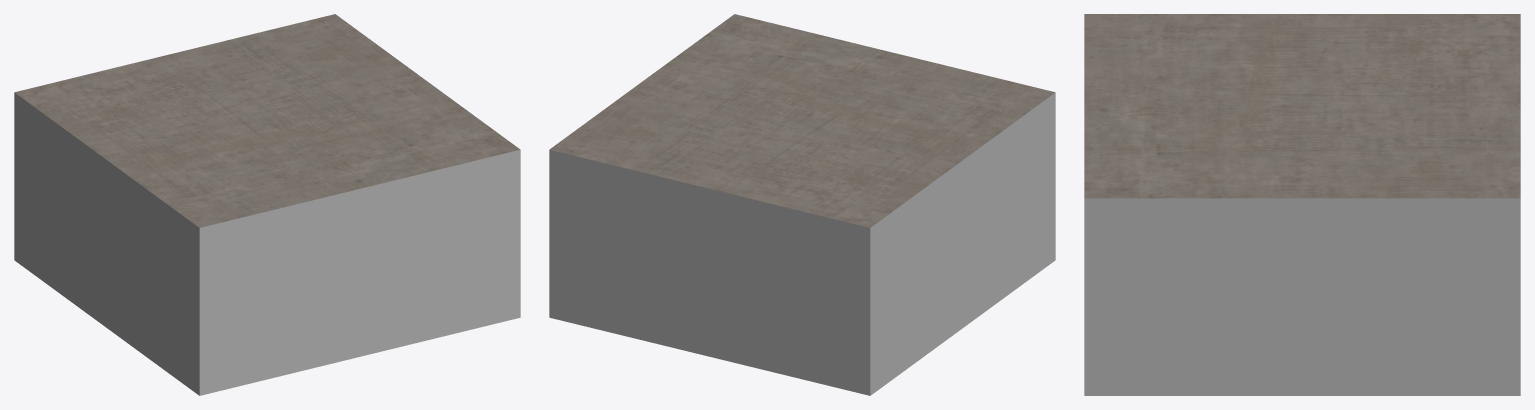
File: wallA_lowPainted.fbx
3 views of the same model, side by side, from view 1: azimuth 30°, elevation 25°; view 2: azimuth 150°, elevation 25°; view 3: azimuth 270°, elevation 25° (orthographic). The views are drawn at different scales.
Parts seen in each view (by area): view 1: wallA_lowPainted; view 2: wallA_lowPainted; view 3: wallA_lowPainted.
Boxes of the visible parts, left/top/right/bottom form: wallA_lowPainted: left=14, top=14, right=520, bottom=395; wallA_lowPainted: left=549, top=14, right=1055, bottom=395; wallA_lowPainted: left=1084, top=14, right=1520, bottom=395.
Bounding box in the file's own units: 10 × 5 × 10.
